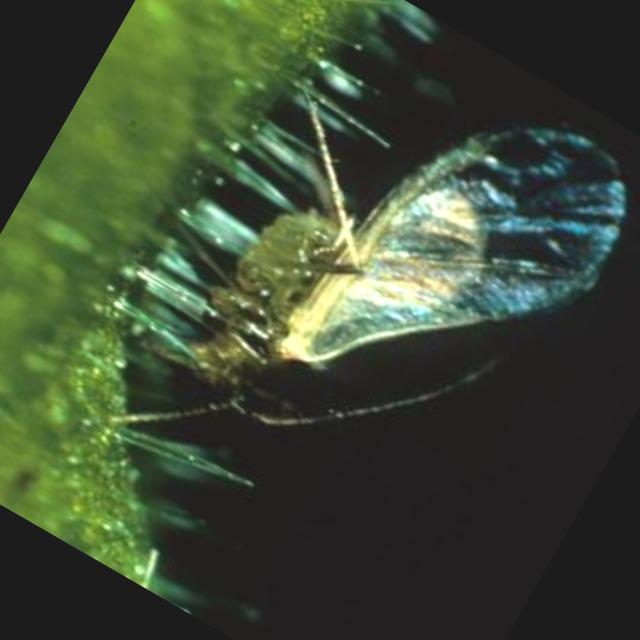Green peach aphid: (17, 0, 640, 626)
